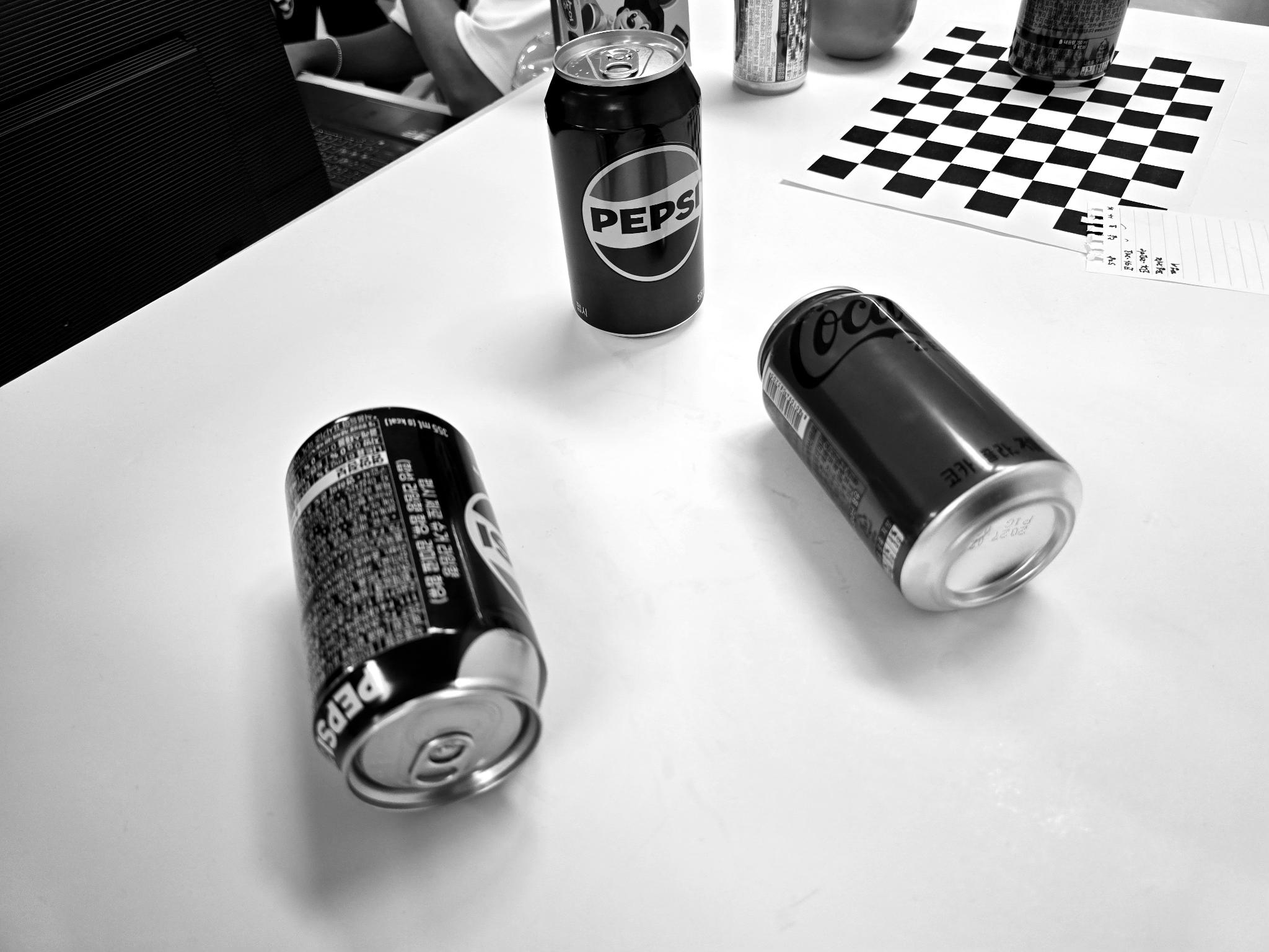can_coke_zero: (756, 284, 1084, 611)
can_pepsi: (539, 23, 704, 341)
can_pepsi_zero: (269, 402, 556, 810)
